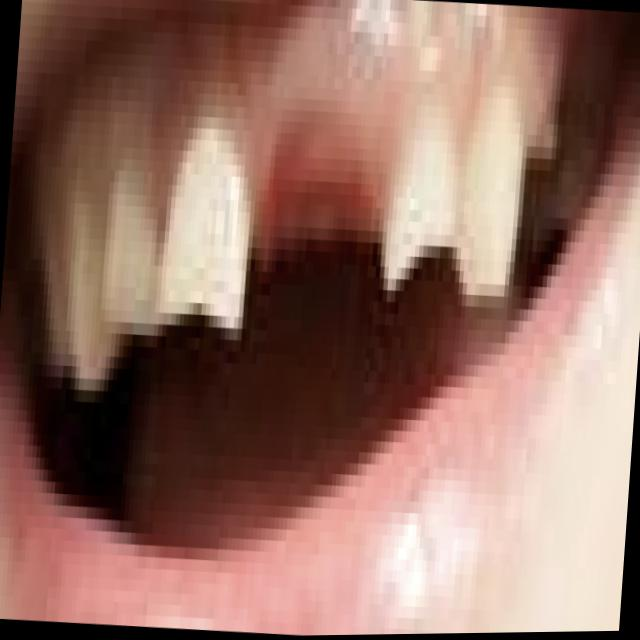hypodontia: (201, 53, 407, 317)
